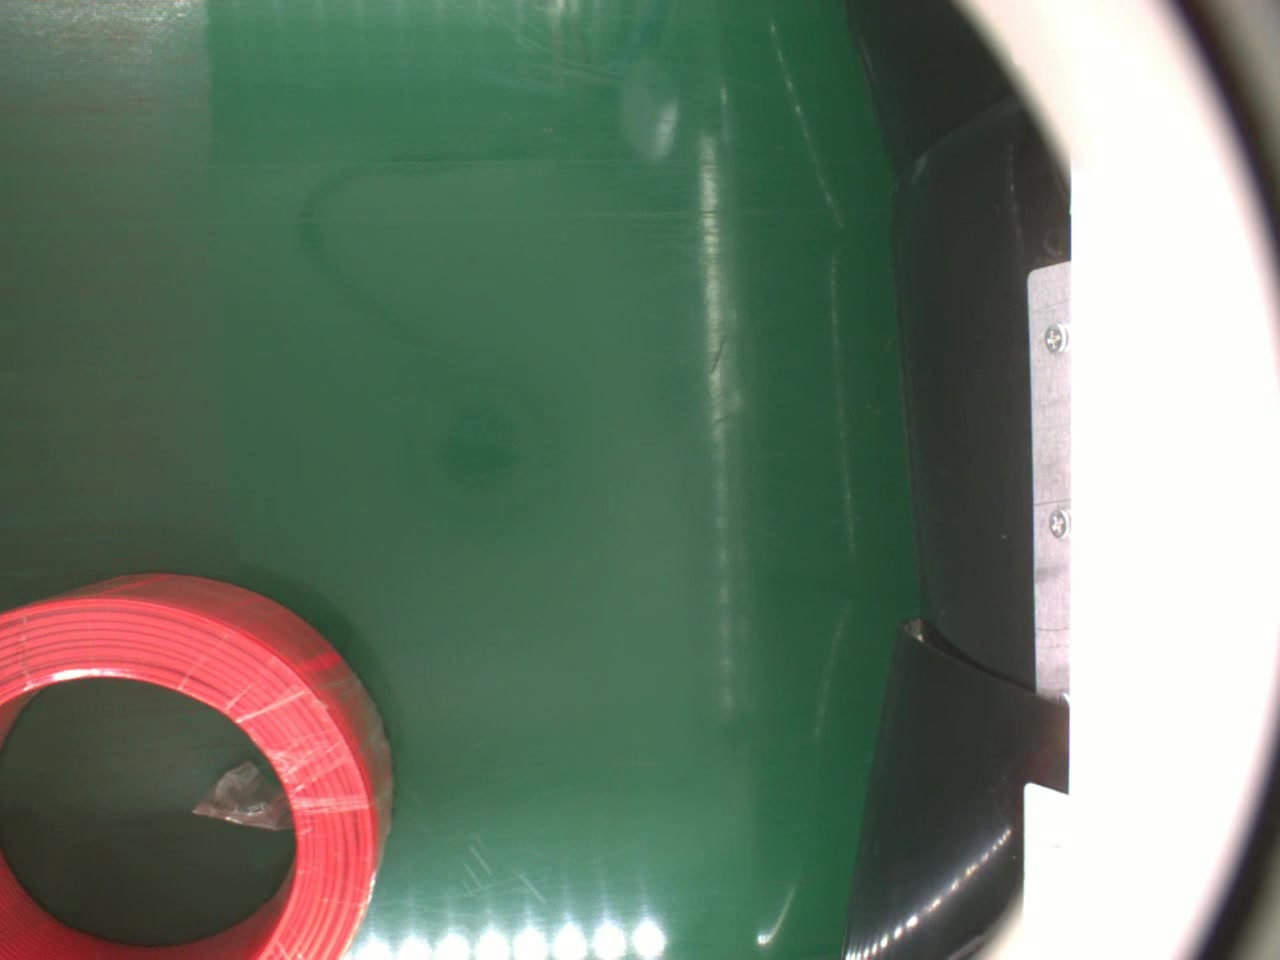red: (0, 570, 398, 960)
